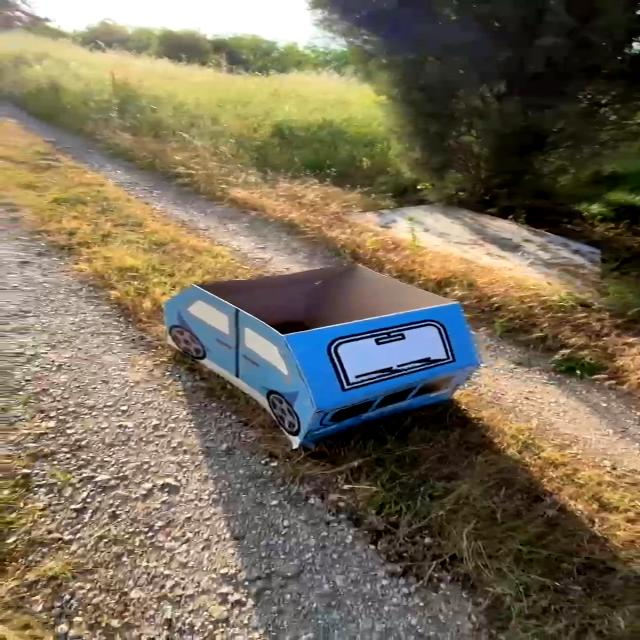blue_car: (115, 231, 535, 458)
